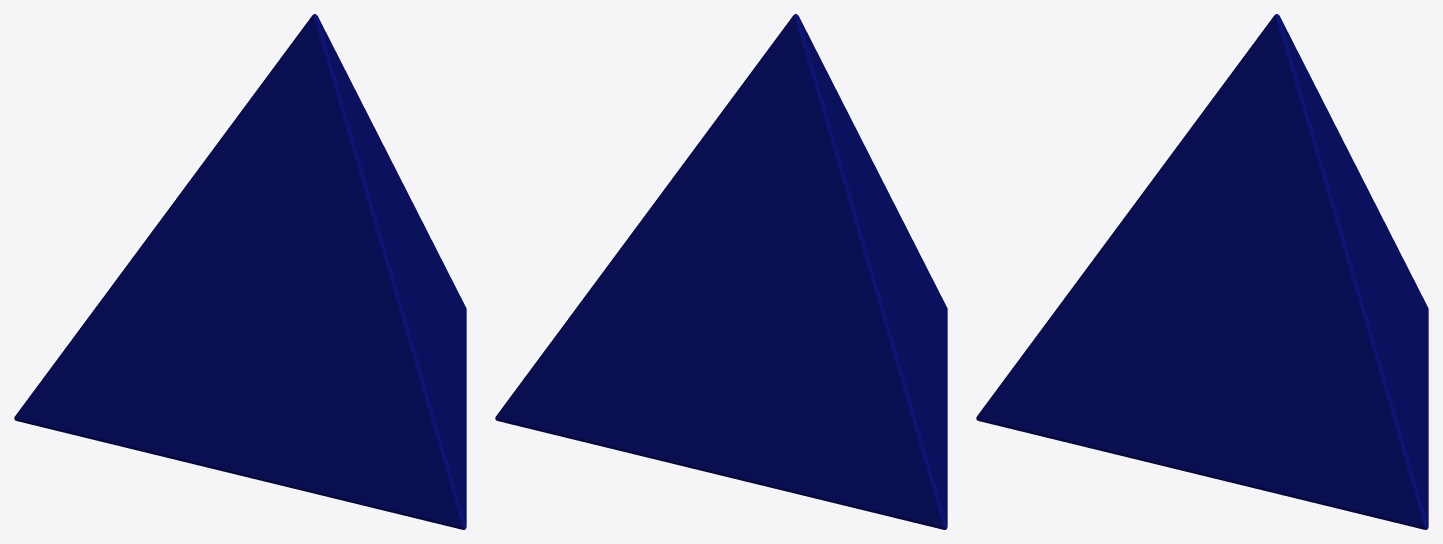
The model's file is Tetrahedron.fbx.
3 renders of one model, left to right at view 1: azimuth 30°, elevation 25°; view 2: azimuth 150°, elevation 25°; view 3: azimuth 270°, elevation 25°, orthographic.
Parts seen in each view (by area): view 1: node_id30; view 2: node_id30; view 3: node_id30.
Boxes of the visible parts, x1,y1,x2,y2 form: node_id30: (14, 14, 466, 529); node_id30: (495, 14, 947, 529); node_id30: (976, 14, 1428, 529).
Bounding box in the file's own units: 0.512 × 0.4407 × 0.4442.
1 material, 1 textured.
